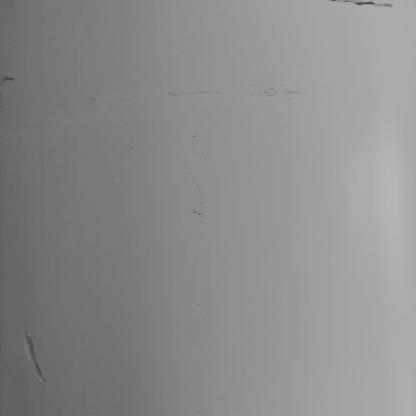fengxi: (331, 1, 394, 9)
sunshang: (22, 331, 49, 384)
